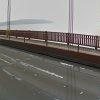Bridge: (1, 18, 98, 63)
